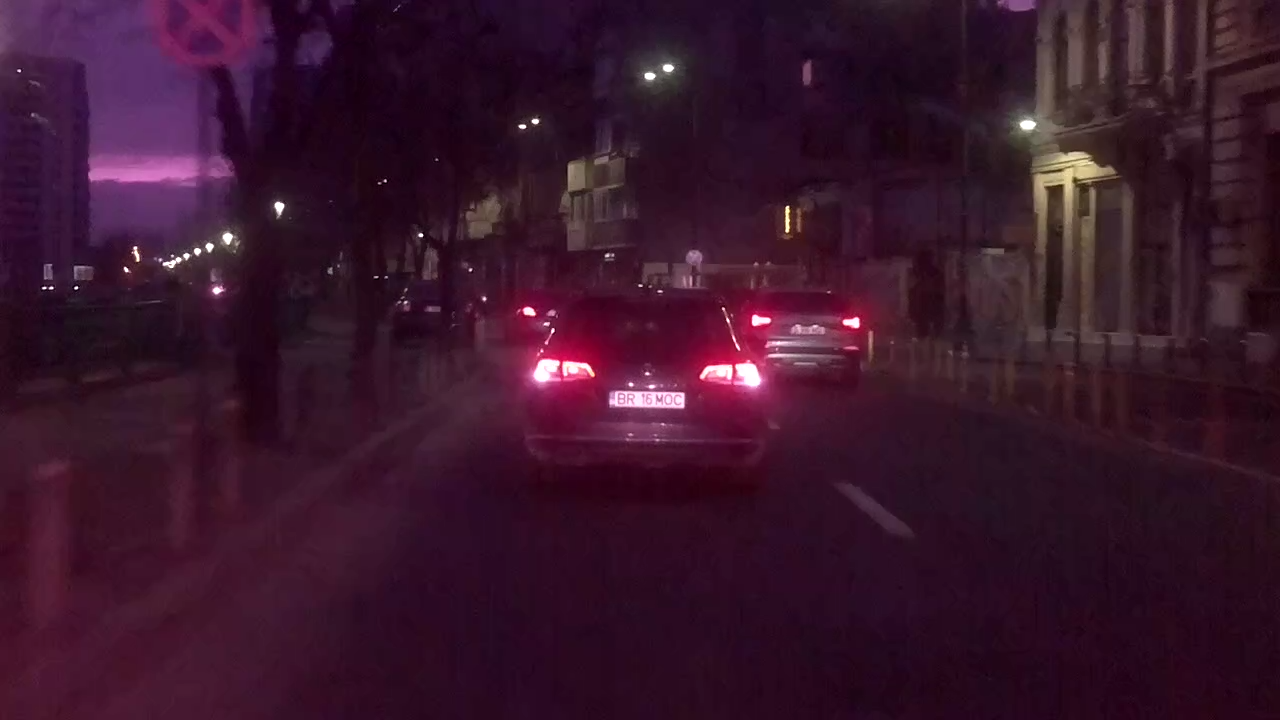license-plate: (605, 387, 689, 411)
